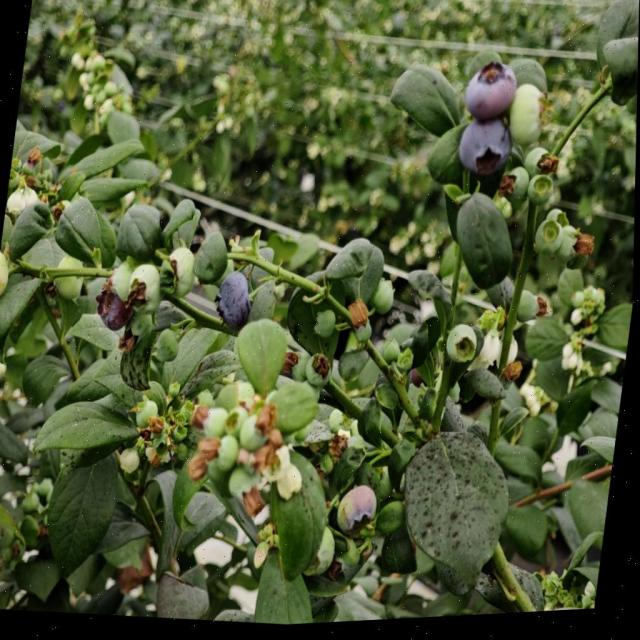RipeBlueBerry: (456, 118, 516, 184), (212, 270, 258, 336)
Semi-RipeBlueBerry: (461, 61, 522, 128), (335, 484, 384, 542)
UnripeBlueBerry: (507, 88, 552, 154)
